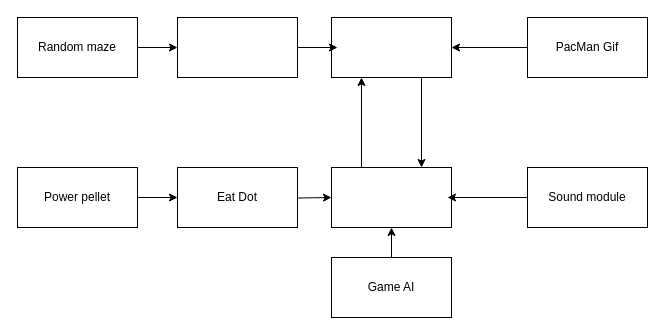
Some shapes in this 665 by 335 pixel diagram are drawn without their labels. Here are the shapes that lost their labels. From the top down, the box of each, then its label:
(176, 16, 298, 78): Configure page
(330, 16, 452, 78): Player GUI
(330, 166, 452, 228): model
